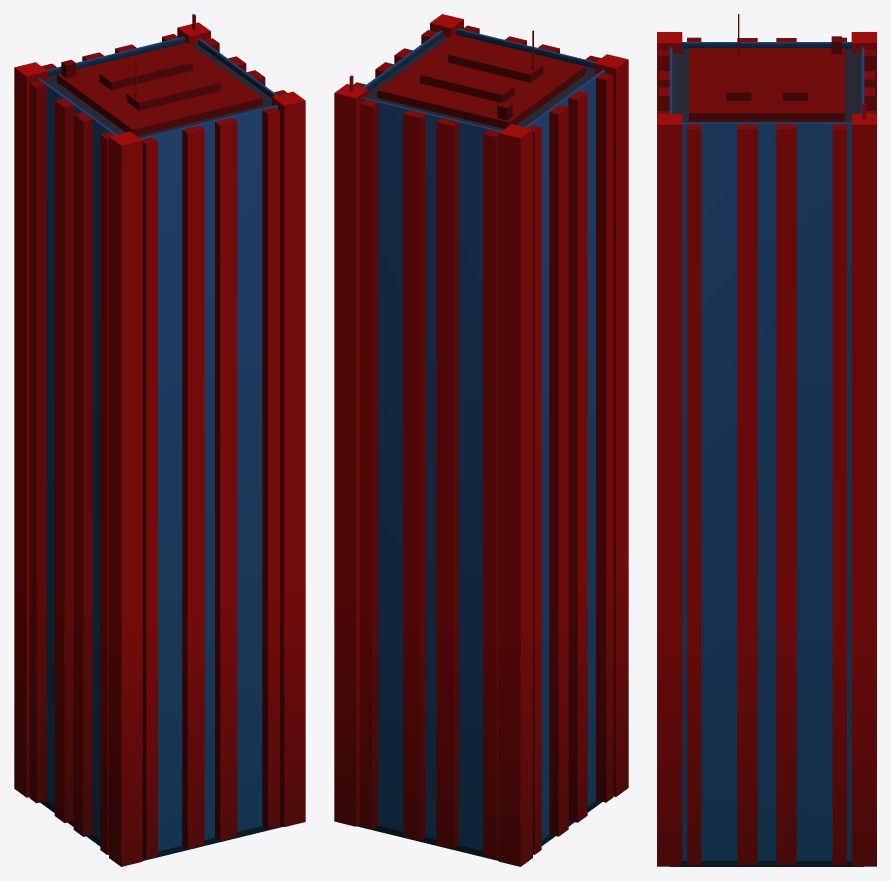
Rendered from RC_ComBuilding7.fbx.
The picture shows the model from 3 angles, left to right: view 1: azimuth 30°, elevation 25°; view 2: azimuth 150°, elevation 25°; view 3: azimuth 270°, elevation 25°; orthographic projection. The views are drawn at different scales.
Parts seen in each view (by area): view 1: base.045, windowRefl.028; view 2: base.045, windowRefl.028; view 3: base.045, windowRefl.028.
Part boxes in pixels (<box>): base.045: <box>14,14,305,866</box>; windowRefl.028: <box>37,36,283,860</box>; base.045: <box>334,14,628,866</box>; windowRefl.028: <box>357,28,605,860</box>; base.045: <box>657,14,876,866</box>; windowRefl.028: <box>669,42,864,866</box>.
Bounding box in the file's own units: 2098 × 8378 × 2106.
